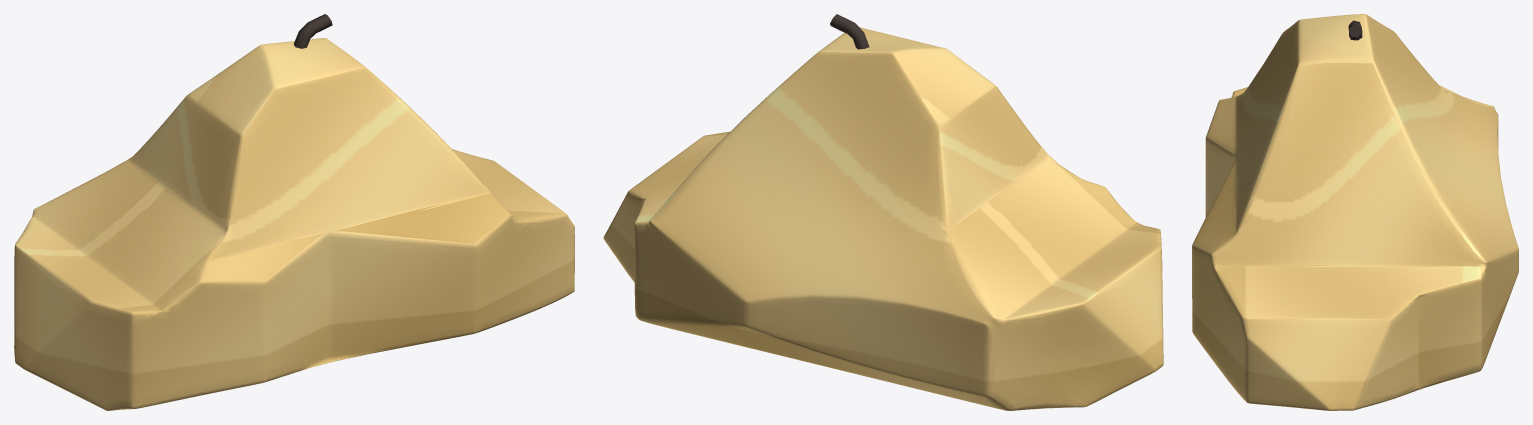
The model's file is melted_wax.obj.
3 renders of one model, left to right at view 1: azimuth 30°, elevation 25°; view 2: azimuth 150°, elevation 25°; view 3: azimuth 270°, elevation 25°, orthographic. The views are drawn at different scales.
Visible parts, largest first — view 1: A_ShadowHull.001_melted_wax_wax, B_BentWick.001_melted_wax_wick; view 2: A_ShadowHull.001_melted_wax_wax, B_BentWick.001_melted_wax_wick; view 3: A_ShadowHull.001_melted_wax_wax.
Boxes of the visible parts, left/top/right/bottom form: A_ShadowHull.001_melted_wax_wax: left=14, top=38, right=574, bottom=410; B_BentWick.001_melted_wax_wick: left=294, top=14, right=332, bottom=48; A_ShadowHull.001_melted_wax_wax: left=603, top=27, right=1163, bottom=410; B_BentWick.001_melted_wax_wick: left=830, top=14, right=869, bottom=49; A_ShadowHull.001_melted_wax_wax: left=1192, top=14, right=1518, bottom=410.
Bounding box in the file's own units: 1.8 × 0.9491 × 0.9451.
Materials: 2 (1 with a texture image).
